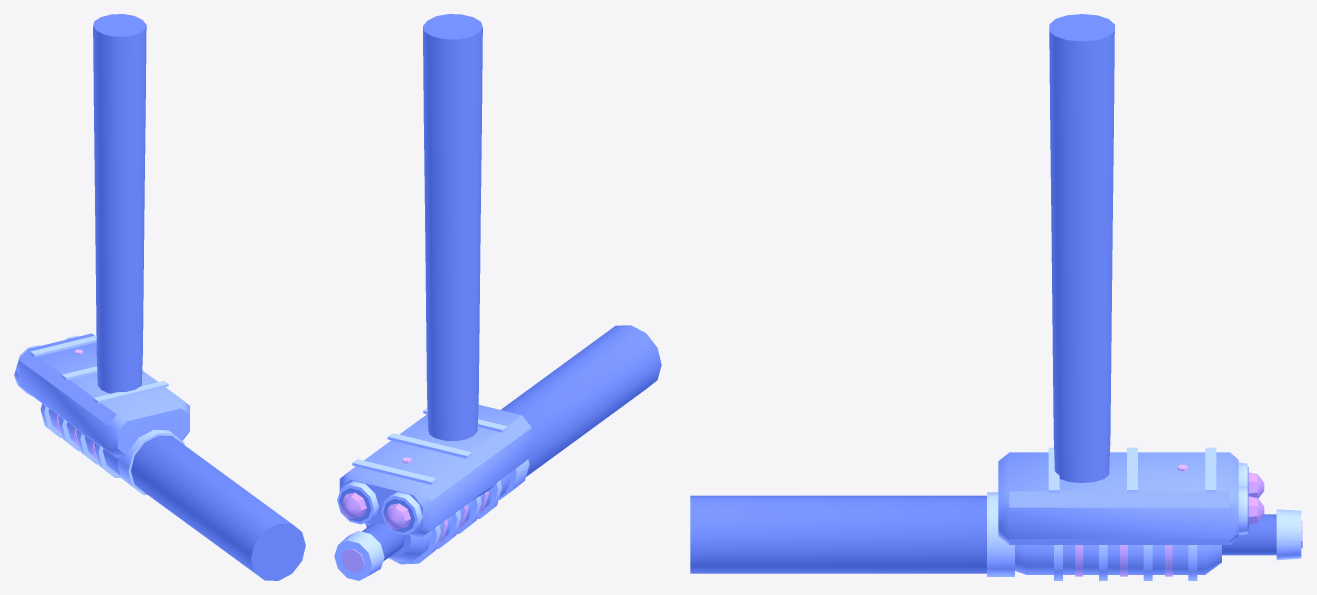
Rendered from korpo_fp.glb.
3 renders of one model, left to right at view 1: azimuth 30°, elevation 25°; view 2: azimuth 150°, elevation 25°; view 3: azimuth 270°, elevation 25°, orthographic. The views are drawn at different scales.
Visible parts, largest first — view 1: FP_Arm_D_L0, FP_ArmCannon_L0, FP_ArmPod_L0; view 2: FP_Arm_D_L0, FP_ArmCannon_L0, FP_ArmPod_L0, FP_ArmPod_Cell_L0; view 3: FP_ArmCannon_L0, FP_Arm_D_L0, FP_ArmPod_L0.
Part boxes in pixels (x1=…): FP_Arm_D_L0: x1=93, y1=14, x2=146, y2=393; FP_ArmCannon_L0: x1=14, y1=367, x2=305, y2=580; FP_ArmPod_L0: x1=16, y1=333, x2=189, y2=457; FP_Arm_D_L0: x1=423, y1=14, x2=482, y2=440; FP_ArmCannon_L0: x1=334, y1=325, x2=661, y2=580; FP_ArmPod_L0: x1=337, y1=404, x2=531, y2=537; FP_ArmPod_Cell_L0: x1=340, y1=492, x2=410, y2=529; FP_ArmCannon_L0: x1=690, y1=492, x2=1302, y2=580; FP_Arm_D_L0: x1=1049, y1=14, x2=1114, y2=482; FP_ArmPod_L0: x1=998, y1=447, x2=1248, y2=544.
Size of the model in its own units: 0.208 by 1.08 by 1.09.
